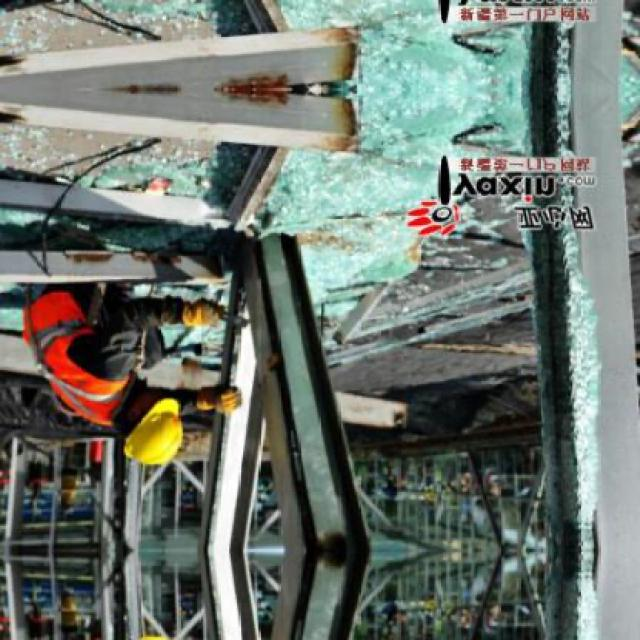con casco: (91, 364, 195, 468)
